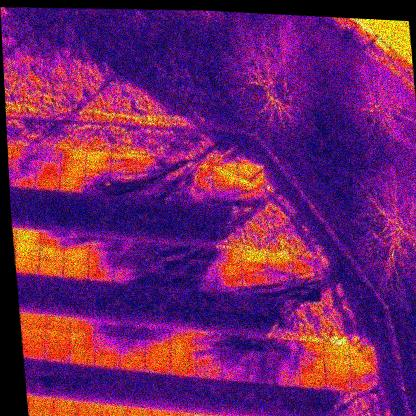Hotspot: (52, 399, 78, 416), (76, 401, 103, 416), (176, 412, 202, 416)
Normal: (118, 354, 148, 372), (20, 312, 48, 331), (44, 344, 72, 363), (323, 357, 352, 375), (60, 161, 87, 180), (34, 173, 61, 192), (15, 227, 42, 246), (37, 259, 64, 278), (27, 395, 54, 414), (62, 262, 90, 280), (22, 340, 46, 361), (69, 348, 97, 366), (93, 350, 121, 368), (144, 356, 172, 374), (299, 371, 327, 389), (39, 245, 66, 263), (45, 329, 72, 347), (45, 315, 73, 332), (322, 343, 350, 360), (15, 242, 41, 260), (60, 148, 87, 165), (241, 250, 268, 267), (63, 247, 90, 264), (15, 257, 40, 275), (21, 327, 47, 344), (101, 404, 128, 416), (126, 407, 152, 416), (151, 409, 177, 416)
Shadow: (112, 265, 143, 287), (184, 157, 214, 178), (168, 325, 198, 346), (236, 161, 265, 182), (212, 184, 241, 205), (113, 251, 142, 272), (267, 279, 296, 300), (221, 362, 250, 383), (134, 168, 164, 188), (184, 171, 214, 191), (184, 186, 214, 206), (119, 320, 147, 341), (238, 188, 267, 208), (138, 254, 167, 274), (69, 332, 98, 352), (93, 334, 122, 354), (170, 358, 199, 378), (247, 365, 276, 385), (272, 368, 301, 388), (210, 159, 240, 178), (160, 169, 190, 188), (164, 271, 194, 290), (70, 315, 97, 336), (190, 258, 218, 278), (210, 173, 241, 191), (134, 154, 163, 173), (160, 155, 189, 174), (139, 269, 168, 288), (215, 276, 244, 295), (117, 338, 147, 356), (35, 159, 63, 178), (238, 176, 266, 195), (138, 240, 166, 259), (164, 242, 192, 261), (189, 243, 217, 262), (267, 266, 295, 285), (144, 324, 172, 343), (194, 329, 222, 348), (169, 343, 197, 362), (195, 345, 223, 364), (196, 361, 224, 380), (109, 165, 138, 183), (164, 257, 193, 275), (214, 261, 243, 279), (292, 268, 321, 286), (241, 278, 270, 296), (143, 340, 172, 358), (245, 352, 274, 370), (272, 353, 301, 371), (324, 372, 353, 390), (35, 145, 62, 164), (39, 230, 66, 249), (58, 175, 86, 193), (112, 238, 140, 256), (87, 264, 115, 282), (94, 320, 122, 338), (245, 335, 273, 353), (221, 348, 249, 366), (64, 232, 90, 251), (11, 144, 38, 162), (88, 234, 115, 252), (191, 274, 218, 292), (294, 284, 321, 302), (221, 332, 248, 350), (349, 345, 376, 363), (110, 152, 138, 169), (84, 163, 112, 180), (215, 248, 243, 265), (272, 339, 300, 356), (297, 341, 325, 358), (351, 374, 379, 391), (10, 172, 37, 189), (267, 253, 294, 270), (241, 264, 269, 280), (10, 158, 36, 175), (88, 250, 115, 266), (292, 255, 319, 271), (299, 357, 326, 373), (350, 361, 377, 377), (85, 151, 111, 167)
